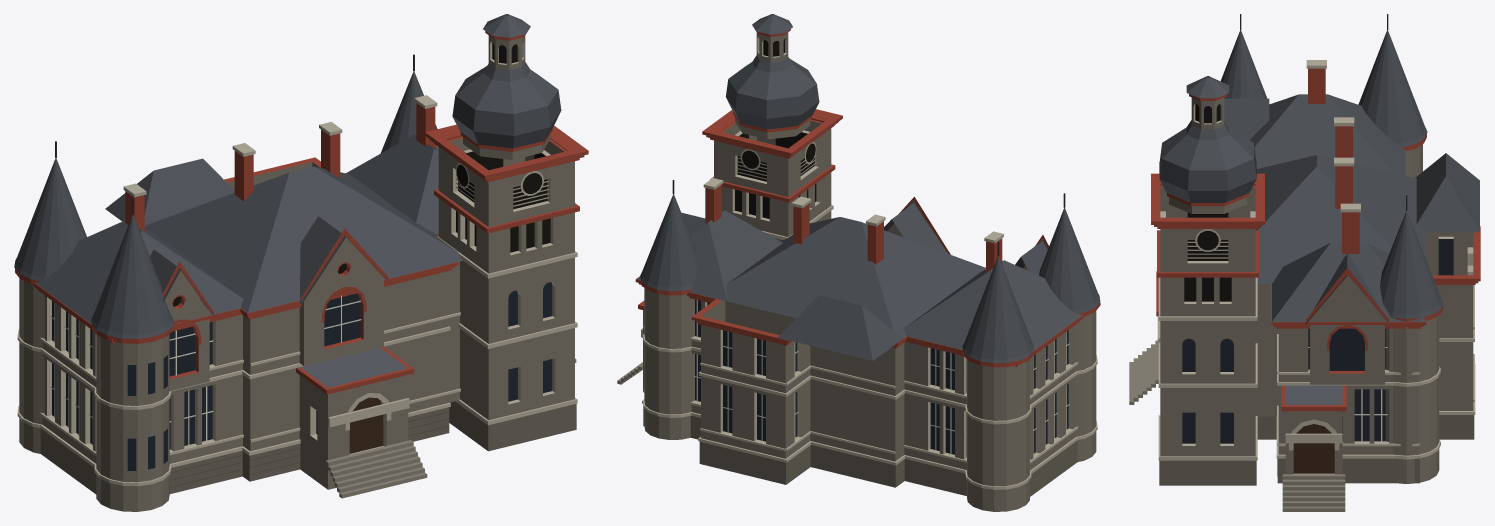
Rendered from pulaski-courthouse-1889.glb.
3 renders of one model, left to right at view 1: azimuth 30°, elevation 25°; view 2: azimuth 150°, elevation 25°; view 3: azimuth 270°, elevation 25°, orthographic. The views are drawn at different scales.
Parts seen in each view (by area): view 1: pulaski_granite, pulaski_slate, pulaski_band, pulaski_trim, pulaski_granite2, pulaski_glass, pulaski_base, pulaski_slate2, pulaski_shadow, pulaski_door, pulaski_sash, pulaski_joint; view 2: pulaski_granite, pulaski_slate, pulaski_band, pulaski_trim, pulaski_granite2, pulaski_glass, pulaski_shadow, pulaski_sash, pulaski_slate2; view 3: pulaski_slate, pulaski_granite, pulaski_trim, pulaski_band, pulaski_granite2, pulaski_glass, pulaski_base, pulaski_shadow, pulaski_slate2, pulaski_door.
Boxes of the visible parts, <box> form: pulaski_granite: <box>19,35,574,511</box>; pulaski_slate: <box>14,14,561,338</box>; pulaski_band: <box>17,40,577,486</box>; pulaski_trim: <box>15,31,588,394</box>; pulaski_granite2: <box>40,401,576,494</box>; pulaski_glass: <box>52,282,552,470</box>; pulaski_base: <box>325,358,576,498</box>; pulaski_slate2: <box>300,110,561,387</box>; pulaski_shadow: <box>173,43,550,306</box>; pulaski_door: <box>349,397,383,453</box>; pulaski_sash: <box>50,295,361,445</box>; pulaski_joint: <box>169,411,448,487</box>; pulaski_granite: <box>643,32,1096,511</box>; pulaski_slate: <box>637,14,1100,363</box>; pulaski_band: <box>641,36,1097,489</box>; pulaski_trim: <box>635,29,1100,367</box>; pulaski_granite2: <box>643,407,1077,496</box>; pulaski_glass: <box>695,299,1068,457</box>; pulaski_shadow: <box>735,39,816,218</box>; pulaski_sash: <box>694,300,1069,454</box>; pulaski_slate2: <box>643,96,819,304</box>; pulaski_slate: <box>1159,30,1479,324</box>; pulaski_granite: <box>1160,97,1473,483</box>; pulaski_trim: <box>1151,68,1480,411</box>; pulaski_band: <box>1157,60,1475,474</box>; pulaski_granite2: <box>1159,415,1474,485</box>; pulaski_glass: <box>1182,239,1453,443</box>; pulaski_base: <box>1129,340,1345,511</box>; pulaski_shadow: <box>1184,104,1231,301</box>; pulaski_slate2: <box>1159,162,1342,404</box>; pulaski_door: <box>1293,424,1334,473</box>.
Size of the model in its own units: 40.64 by 31.5 by 25.84.
